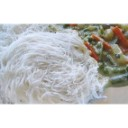idiyappam: (1, 24, 93, 108)
